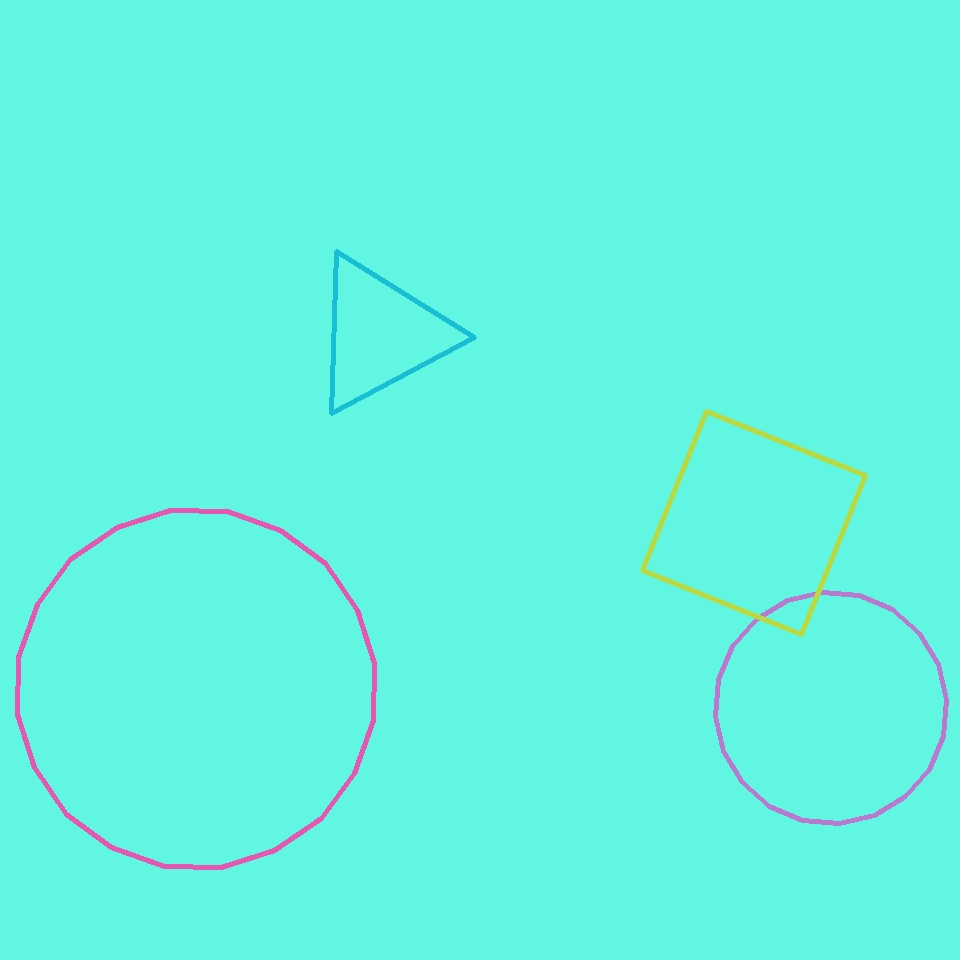circle: (310, 253, 452, 415)
square: (642, 412, 866, 634)
triangle: (17, 510, 374, 867), (715, 592, 946, 824)
